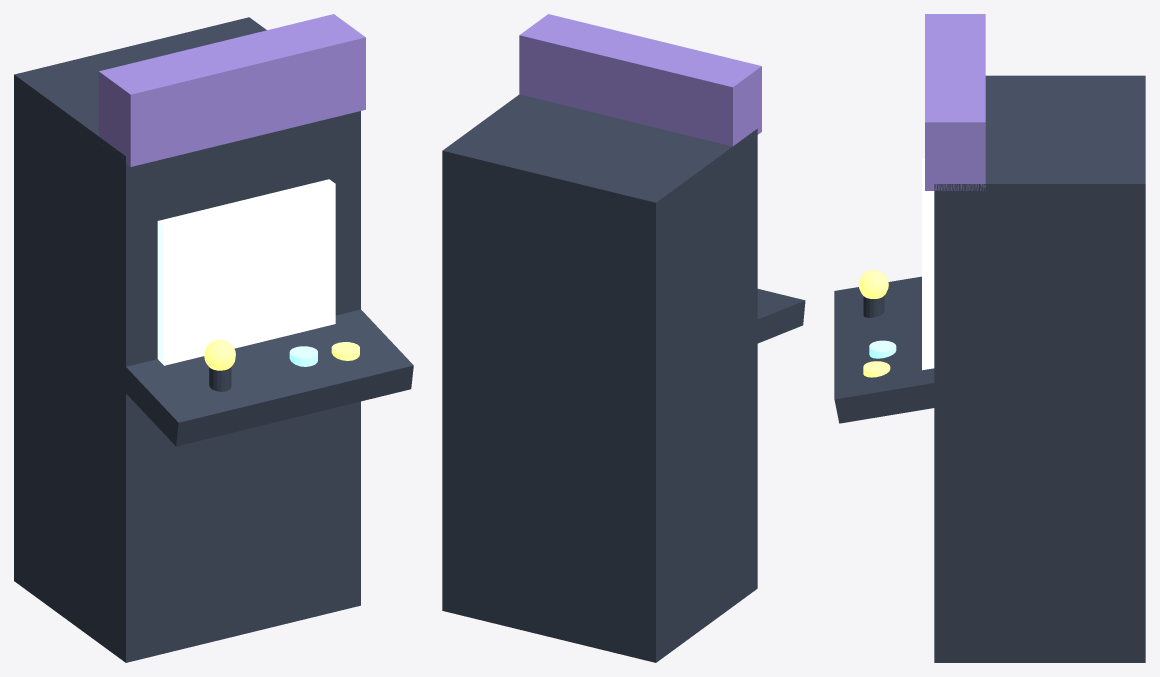
File: arcade_cabinet.fbx
3 renders of one model, left to right at view 1: azimuth 30°, elevation 25°; view 2: azimuth 150°, elevation 25°; view 3: azimuth 270°, elevation 25°, orthographic. The views are drawn at different scales.
Visible parts, largest first — view 1: arcade_cabinet; view 2: arcade_cabinet; view 3: arcade_cabinet.
Part boxes in pixels (bbox=[...]): arcade_cabinet: bbox=[14, 14, 413, 662]; arcade_cabinet: bbox=[442, 14, 805, 662]; arcade_cabinet: bbox=[834, 14, 1145, 662].
Bounding box in the file's own units: 0.85 × 1.98 × 1.03.
